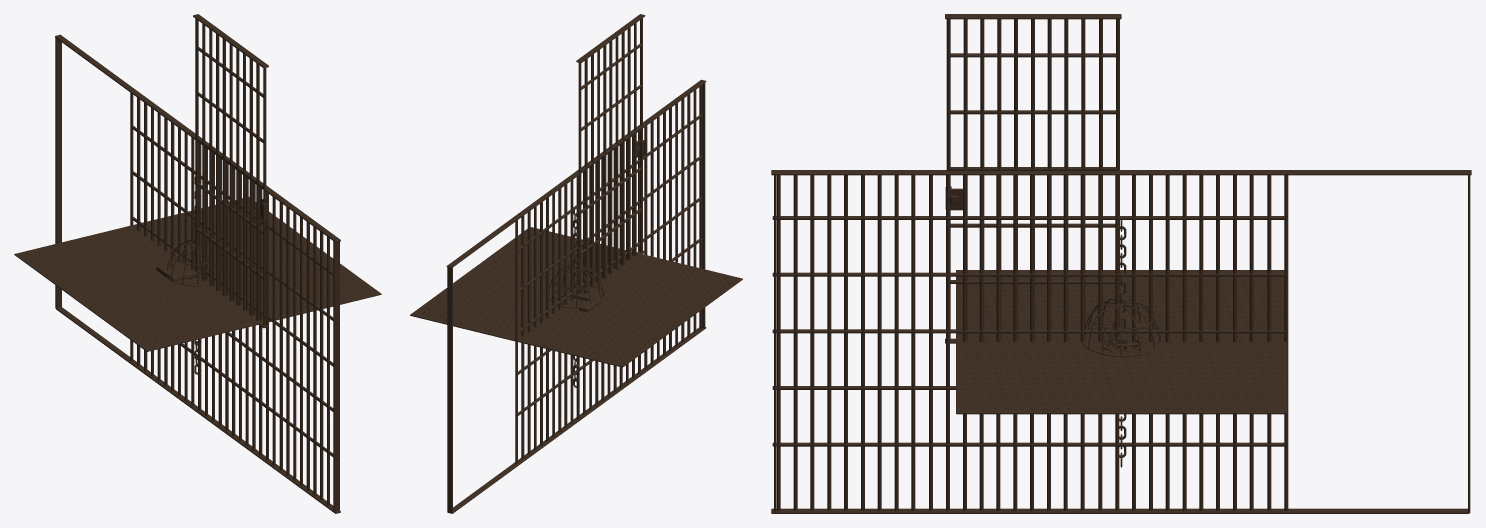
Rendered from cage.fbx.
3 views of the same model, side by side, from view 1: azimuth 30°, elevation 25°; view 2: azimuth 150°, elevation 25°; view 3: azimuth 270°, elevation 25° (orthographic). The views are drawn at different scales.
Parts seen in each view (by area): view 1: pCube150, TetoFerroGrande2, BarraFerro142, pCylinder60; view 2: pCube150, TetoFerroGrande2, BarraFerro142, pCylinder60, polySurface3739; view 3: pCube150, TetoFerroGrande2, BarraFerro142, pCylinder60, polySurface3739.
Boxes of the visible parts, box(x1,y1,x2,y2) form: pCube150: box(55, 34, 340, 513); TetoFerroGrande2: box(14, 197, 381, 351); BarraFerro142: box(193, 14, 268, 328); pCylinder60: box(167, 239, 229, 286); pCube150: box(446, 79, 706, 513); TetoFerroGrande2: box(410, 227, 742, 367); BarraFerro142: box(576, 14, 645, 293); pCylinder60: box(549, 265, 605, 308); polySurface3739: box(573, 207, 579, 387); pCube150: box(771, 170, 1471, 513); TetoFerroGrande2: box(956, 270, 1286, 414); BarraFerro142: box(945, 14, 1121, 343); pCylinder60: box(1082, 298, 1162, 357); polySurface3739: box(1119, 218, 1126, 467).
Bounding box in the file's own units: 312 × 504 × 646.
